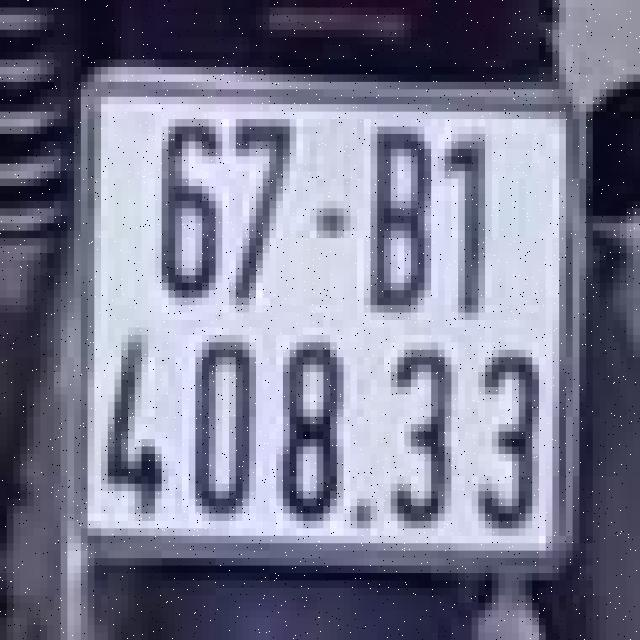0: (182, 331, 263, 525)
1: (444, 111, 492, 328)
3: (374, 324, 455, 562), (468, 335, 549, 543)
4: (94, 323, 168, 524)
6: (145, 108, 226, 309)
7: (226, 104, 300, 313)
8: (263, 331, 350, 540)
B: (357, 116, 438, 332)
